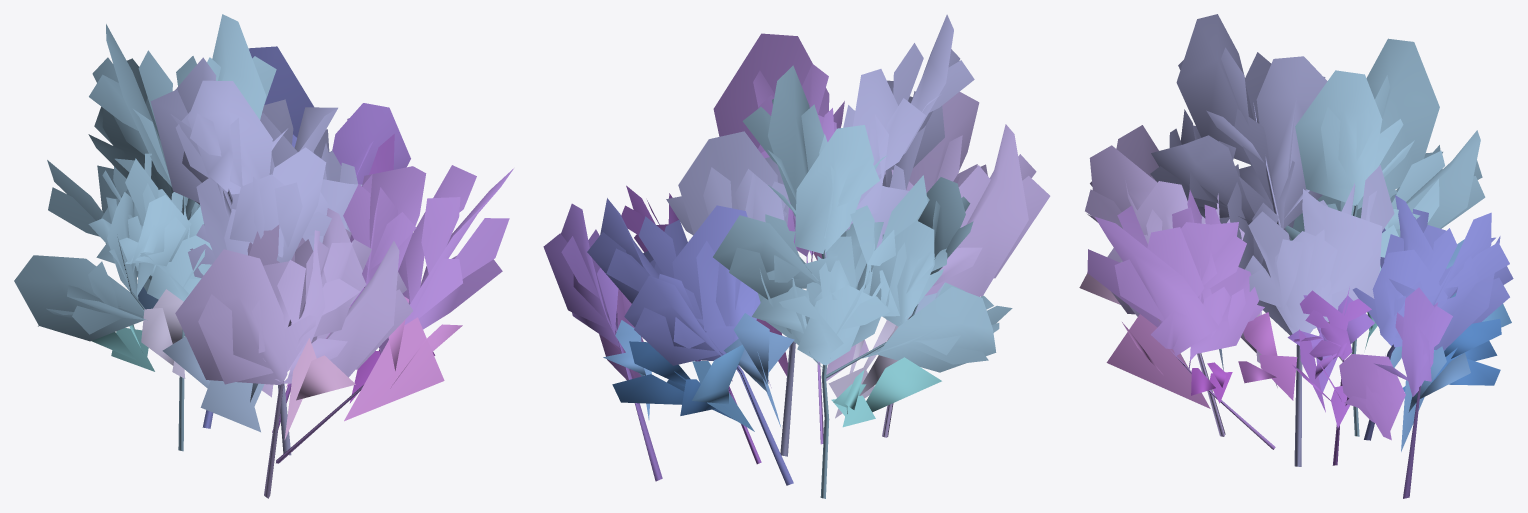
3 views of the same model, side by side, from view 1: azimuth 30°, elevation 25°; view 2: azimuth 150°, elevation 25°; view 3: azimuth 270°, elevation 25° (orthographic). The views are drawn at different scales.
Parts seen in each view (by area): view 1: SM_BS_Ephedra_80cm_HD; view 2: SM_BS_Ephedra_80cm_HD; view 3: SM_BS_Ephedra_80cm_HD.
Part boxes in pixels (x1=…): SM_BS_Ephedra_80cm_HD: x1=14, y1=14, x2=513, y2=498; SM_BS_Ephedra_80cm_HD: x1=543, y1=14, x2=1050, y2=498; SM_BS_Ephedra_80cm_HD: x1=1079, y1=14, x2=1513, y2=498.
Bounding box in the file's own units: 35.81 × 36.46 × 36.41.
